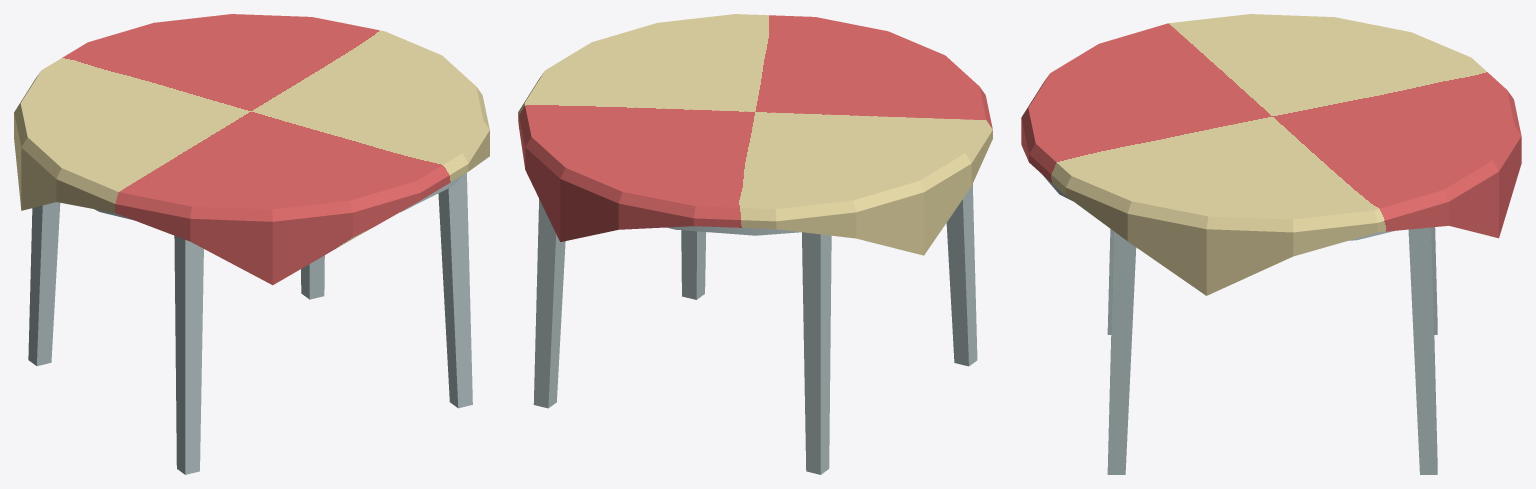
Rendered from SM_RoundTable.FBX.
3 views of the same model, side by side, from view 1: azimuth 30°, elevation 25°; view 2: azimuth 150°, elevation 25°; view 3: azimuth 270°, elevation 25° (orthographic). The views are drawn at different scales.
Visible parts, largest first — view 1: Nape, RoundTable; view 2: Nape, RoundTable; view 3: Nape, RoundTable.
Part boxes in pixels (x1=…): Nape: x1=14, y1=14, x2=489, y2=285; RoundTable: x1=28, y1=173, x2=472, y2=474; Nape: x1=518, y1=14, x2=992, y2=255; RoundTable: x1=533, y1=184, x2=977, y2=474; Nape: x1=1021, y1=14, x2=1521, y2=295; RoundTable: x1=1042, y1=174, x2=1437, y2=474.
Size of the model in its own units: 304 by 191 by 304.
2 materials, 2 textured.
